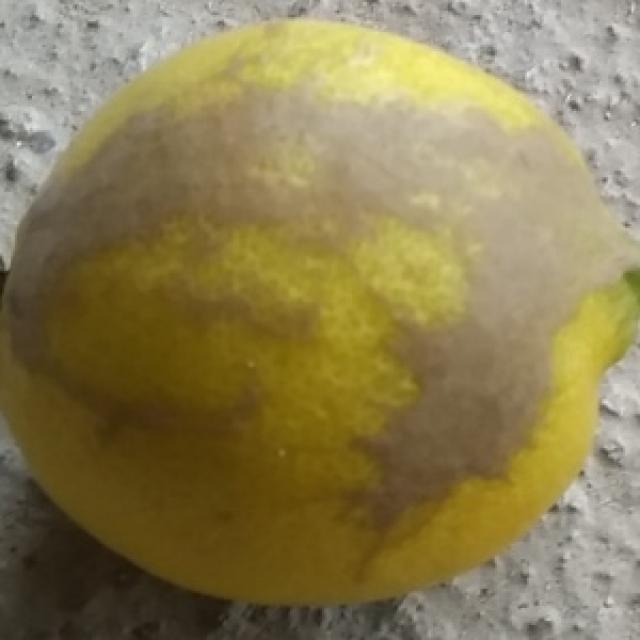overripe: (0, 14, 640, 612)
